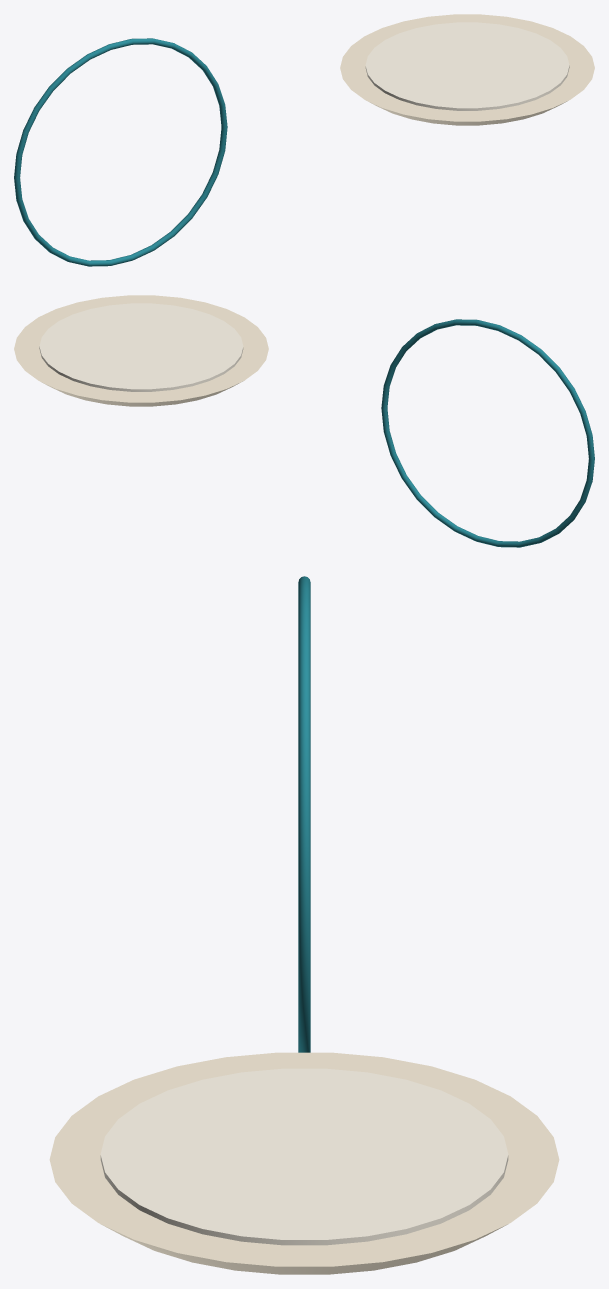
File: shared_tool_plate.glb
The picture shows the model from 3 angles, top to bottom: view 1: azimuth 30°, elevation 25°; view 2: azimuth 150°, elevation 25°; view 3: azimuth 270°, elevation 25°; orthographic projection. The views are drawn at different scales.
Bounding box in the file's own units: 2.55 × 0.9587 × 1.
